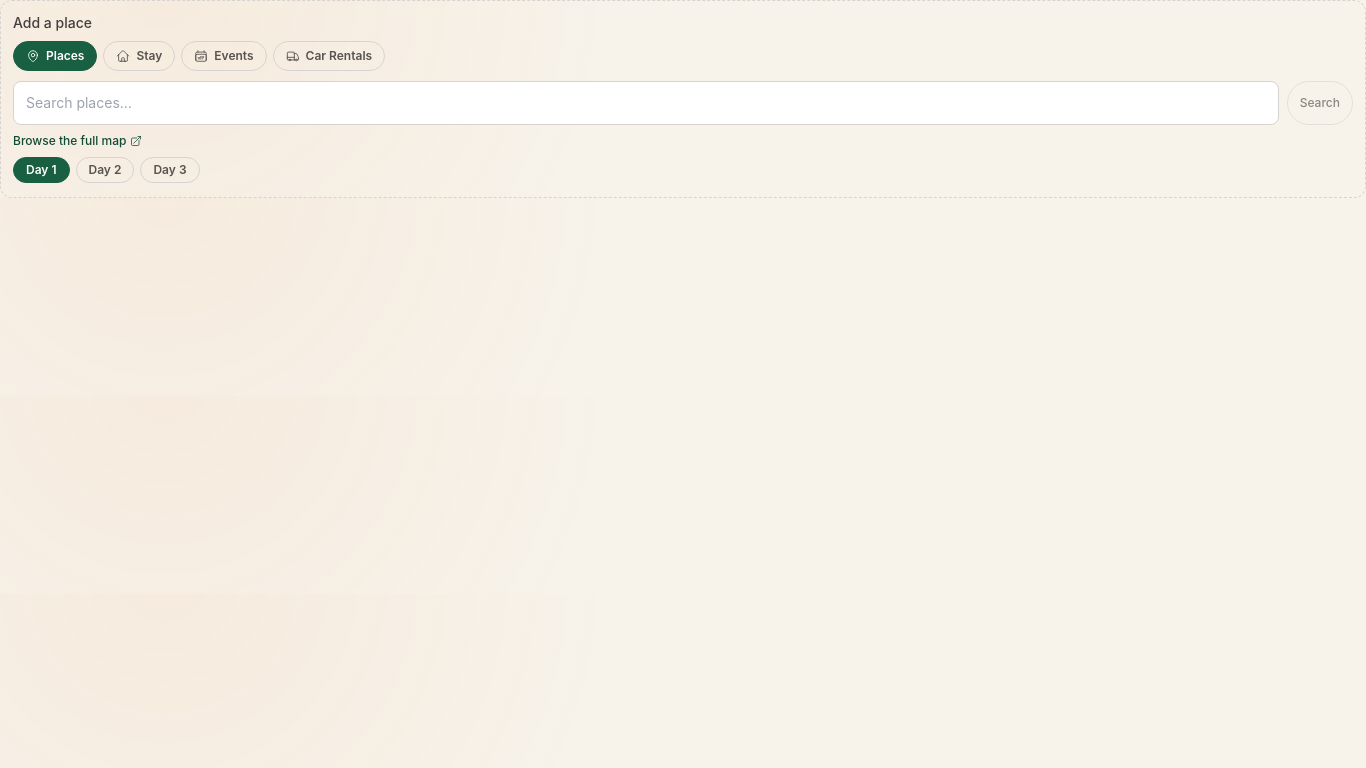
AddTripStop › doesn't leave the new tab stuck on "Searching…" when the old tab's request never resolves
This screenshot has width=1366, height=768.
Type "beach" into the field with placeholder "Search places…".
click(646, 103); type("beach")  # box [13, 81, 1279, 125]
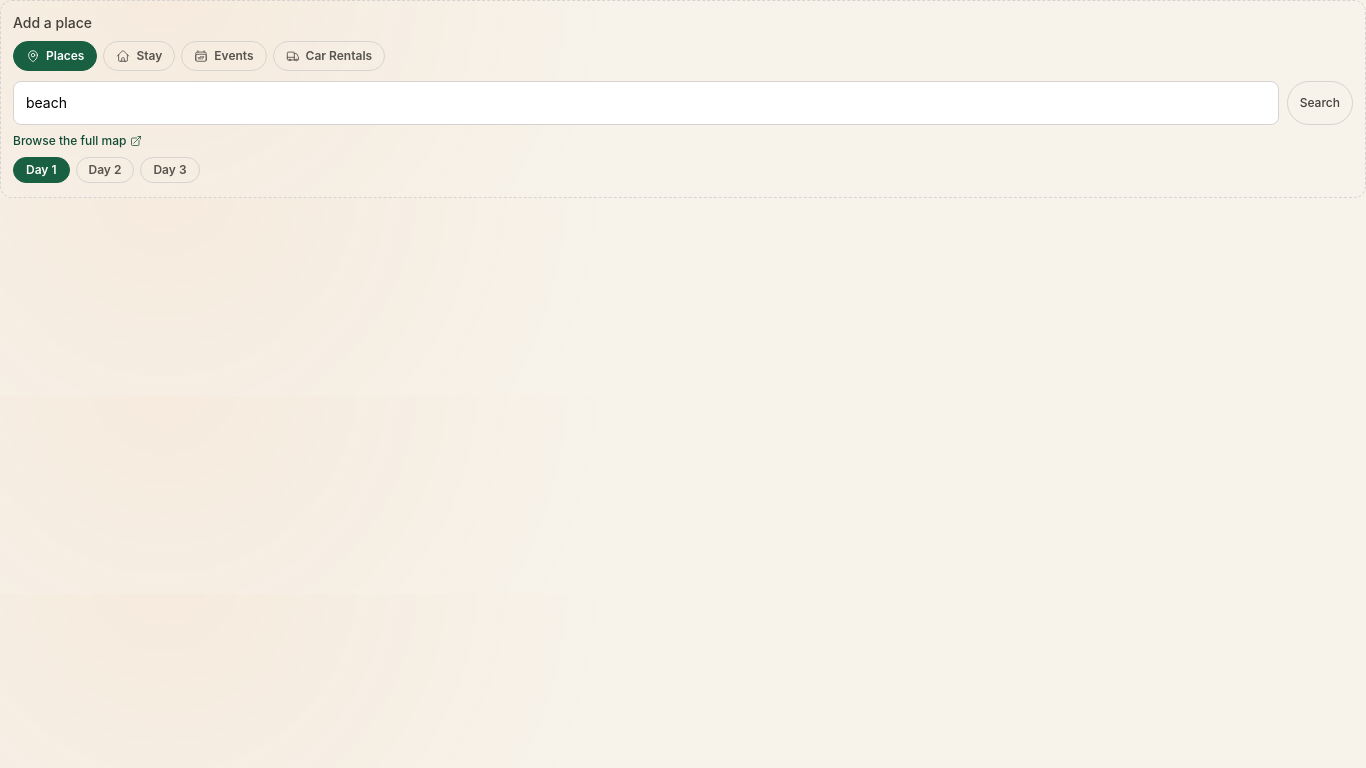
Click the button "Search".
click(1320, 103)  # box [1287, 81, 1353, 125]
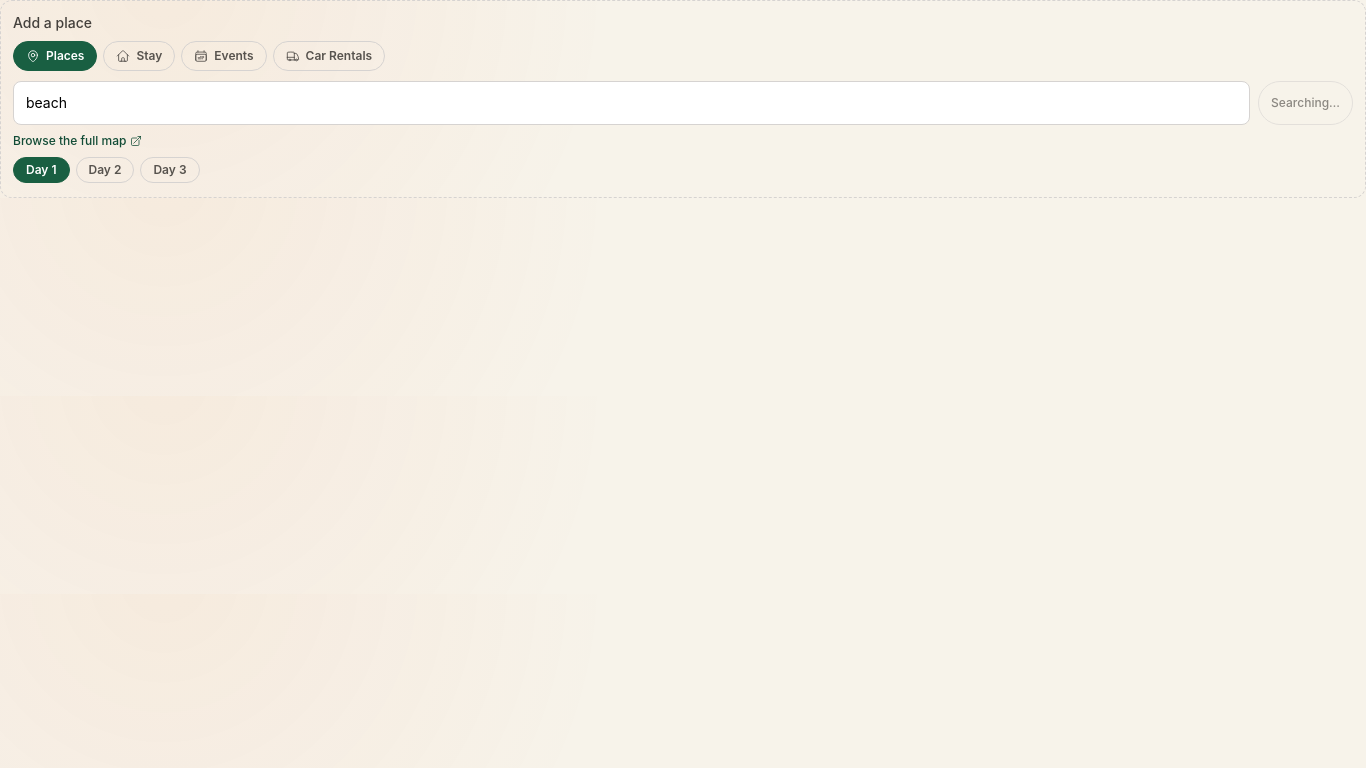
Check: the button "Searching…" is shown, box [1258, 81, 1353, 125]
Click the button "Events".
click(224, 56)  # box [181, 41, 267, 71]
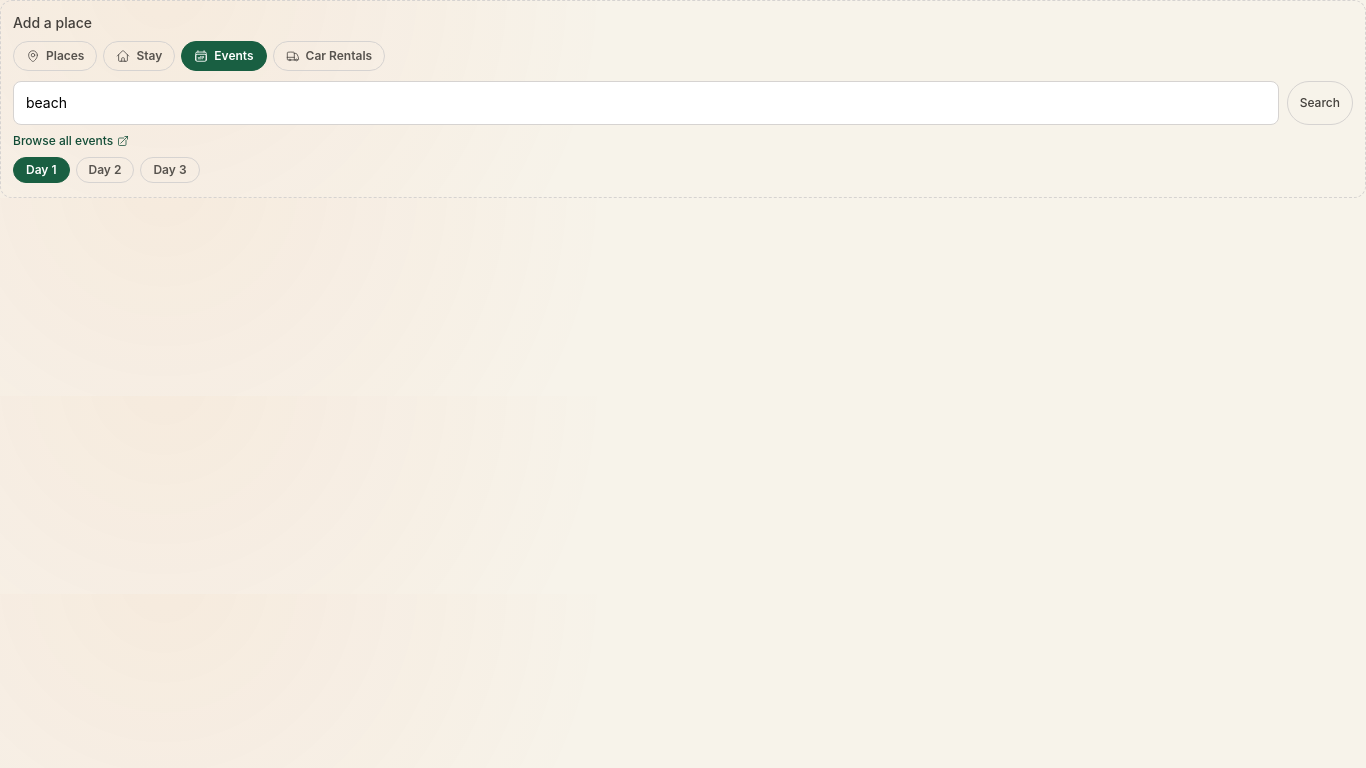
Check: the button "Searching…" is gone
Check: the button "Search" is enabled, box [1287, 81, 1353, 125]
